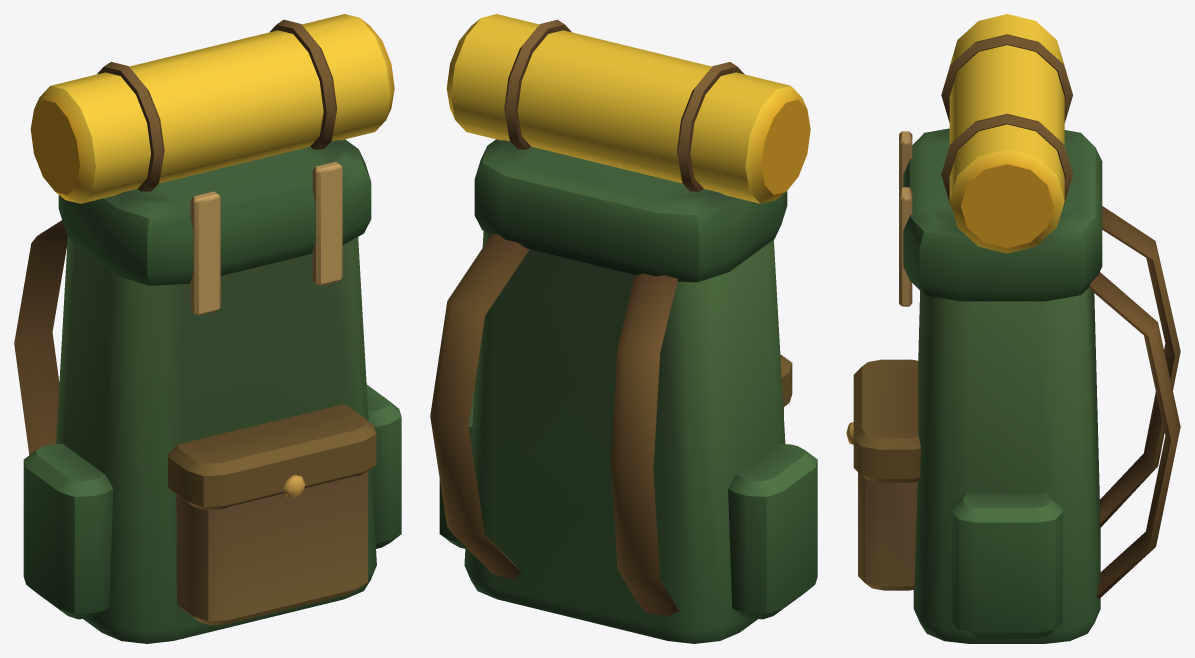
File: bigpack.glb
3 renders of one model, left to right at view 1: azimuth 30°, elevation 25°; view 2: azimuth 150°, elevation 25°; view 3: azimuth 270°, elevation 25°, orthographic. The views are drawn at different scales.
Visible parts, largest first — view 1: bigpack; view 2: bigpack; view 3: bigpack.
Part boxes in pixels (<box>): bigpack: <box>14,14,401,643</box>; bigpack: <box>430,14,817,643</box>; bigpack: <box>846,14,1180,643</box>.
Size of the model in its own units: 0.335 by 0.5147 by 0.3025.
